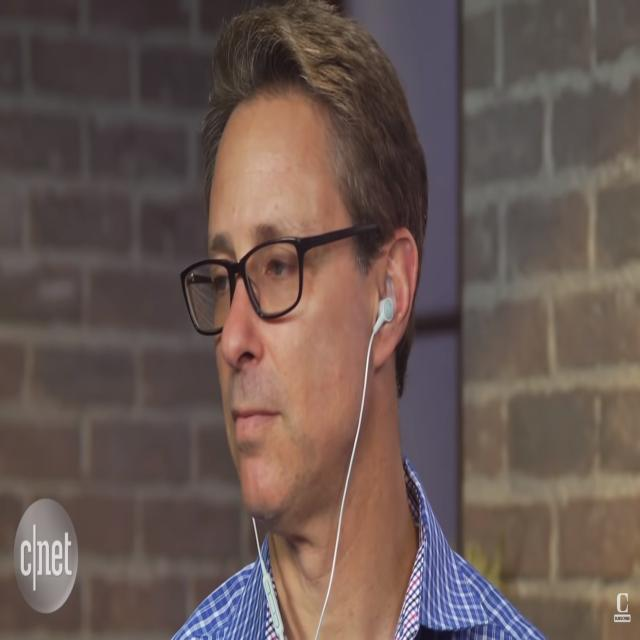Earphone: (252, 293, 394, 640)
